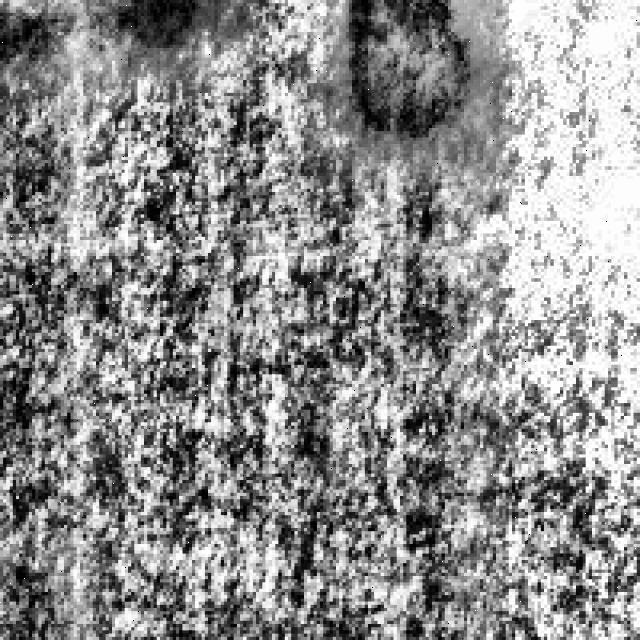Scratches: (330, 0, 470, 131), (0, 0, 211, 77)
